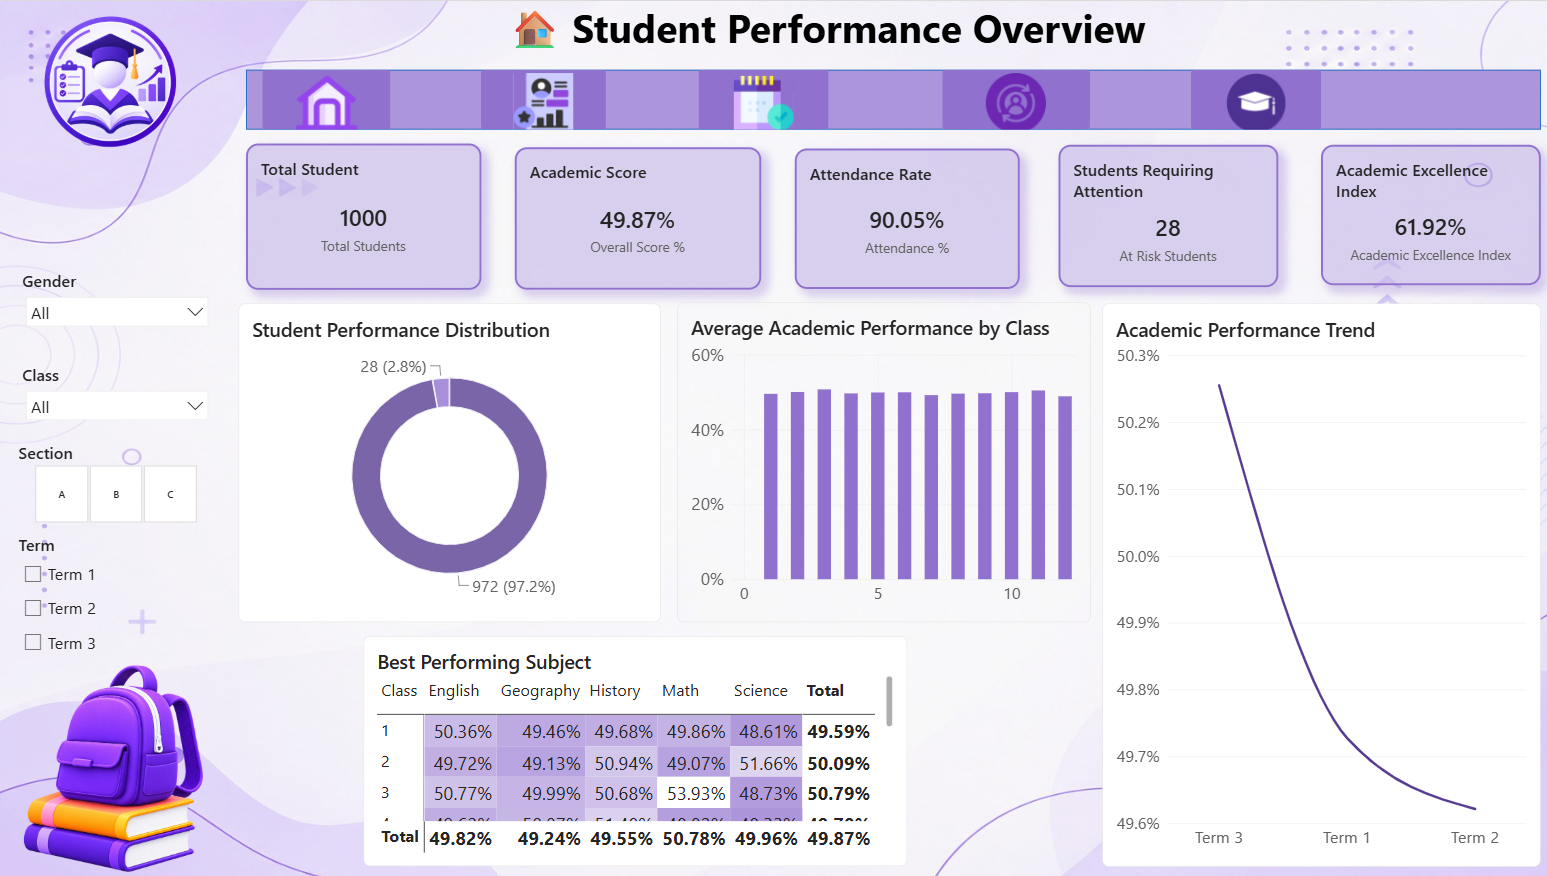

What the dashboard file says about the page in this screenshot:
{"tool":"powerbi","page":{"name":"EXECUTIVE OVERVIEW","canvas":[1920,1080],"ordinal":0},"visuals":[{"type":"card","title":"Academic Excellence Index","fields":{"Values":["MEASURES (2).Academic Excellence Index"]},"box":[1629.6,177.5,270.5,173.1],"z":0},{"type":"card","title":"Total Student","fields":{"Values":["MEASURES (2).Total Students"]},"box":[307.3,175.3,290,179.6],"z":1000},{"type":"card","title":"Attendance Rate","fields":{"Values":["MEASURES (2).Attendance %"]},"box":[982.5,181.8,277,173.1],"z":2000},{"type":"card","title":"Academic Score","fields":{"Values":["MEASURES (2).Overall Score %"]},"box":[638.4,179.6,303,175.3],"z":3000},{"type":"card","title":"Students Requiring Attention","fields":{"Values":["MEASURES (2).At Risk Students"]},"box":[1307.1,177.5,270.5,175.3],"z":4000},{"type":"slicer","title":"Class","fields":{"Values":["Students.Class"]},"box":[32.5,445.8,233.7,69.3],"z":5000},{"type":"slicer","title":"Section","fields":{"Values":["Students.Section"]},"box":[28.1,541,238.1,101.7],"z":6000},{"type":"slicer","title":"Gender ","fields":{"Values":["Students.Gender"]},"box":[32.5,331.1,233.7,82.2],"z":7000},{"type":"slicer","title":"Term","fields":{"Values":["Scores.Term"]},"box":[28.1,655.7,238.1,155.8],"z":8000},{"type":"clusteredColumnChart","title":"Average Academic Performance by Class","fields":{"Category":["Students.Class"],"Y":["MEASURES (2).Average Score %"]},"box":[837.5,370.1,508.6,393.9],"z":9000},{"type":"lineChart","title":"Academic Performance Trend","fields":{"Category":["Scores.Term"],"Y":["MEASURES (2).Average Score %"]},"box":[1361.2,372.2,538.9,692.5],"z":10000},{"type":"donutChart","title":"Student Performance Distribution","fields":{"Category":["Students.PerformanceCategory"],"Y":["MEASURES (2).Total Students"]},"box":[298.7,372.2,519.4,391.7],"z":11000},{"type":"pivotTable","title":"Best Performing Subject","fields":{"Columns":["Scores.Subject"],"Rows":["Students.Class"],"Values":["MEASURES (2).Average Score %"]},"box":[452.3,781.3,668.7,283.5],"z":12000},{"type":"image","box":[0,811.6,281.3,268.4],"z":13000},{"type":"textbox","box":[575.7,0,893.8,64.9],"z":14000},{"type":"image","box":[0,0,281.3,203.4],"z":15000},{"type":"shape","box":[307.3,84.4,1592.8,73.6],"z":16000},{"type":"actionButton","box":[326.8,84.4,158,73.6],"z":17000},{"type":"actionButton","box":[597.3,84.4,153.7,73.6],"z":18000},{"type":"actionButton","box":[863.5,84.4,160.1,73.6],"z":19000},{"type":"actionButton","box":[1164.3,84.4,181.8,73.6],"z":20000},{"type":"actionButton","box":[1469.5,84.4,160.1,73.6],"z":21000}]}

Visuals, with their boxes in screenshot pixels (x1, y1, x2, y2), scaled from the page's 1920x1080 canvas onto the 1547x876 screenshot:
"Academic Excellence Index" card: pyautogui.locateOnScreen(1313, 144, 1531, 284)
"Total Student" card: pyautogui.locateOnScreen(248, 142, 481, 288)
"Attendance Rate" card: pyautogui.locateOnScreen(792, 147, 1015, 288)
"Academic Score" card: pyautogui.locateOnScreen(514, 146, 759, 288)
"Students Requiring Attention" card: pyautogui.locateOnScreen(1053, 144, 1271, 286)
"Class" slicer: pyautogui.locateOnScreen(26, 362, 214, 418)
"Section" slicer: pyautogui.locateOnScreen(23, 439, 214, 521)
"Gender " slicer: pyautogui.locateOnScreen(26, 269, 214, 335)
"Term" slicer: pyautogui.locateOnScreen(23, 532, 214, 658)
"Average Academic Performance by Class" clusteredColumnChart: pyautogui.locateOnScreen(675, 300, 1085, 620)
"Academic Performance Trend" lineChart: pyautogui.locateOnScreen(1097, 302, 1531, 864)
"Student Performance Distribution" donutChart: pyautogui.locateOnScreen(241, 302, 659, 620)
"Best Performing Subject" pivotTable: pyautogui.locateOnScreen(364, 634, 903, 864)
image: pyautogui.locateOnScreen(0, 658, 227, 875)
textbox: pyautogui.locateOnScreen(464, 0, 1184, 53)
image: pyautogui.locateOnScreen(0, 0, 227, 165)
shape: pyautogui.locateOnScreen(248, 68, 1531, 128)
actionButton: pyautogui.locateOnScreen(263, 68, 391, 128)
actionButton: pyautogui.locateOnScreen(481, 68, 605, 128)
actionButton: pyautogui.locateOnScreen(696, 68, 825, 128)
actionButton: pyautogui.locateOnScreen(938, 68, 1085, 128)
actionButton: pyautogui.locateOnScreen(1184, 68, 1313, 128)
